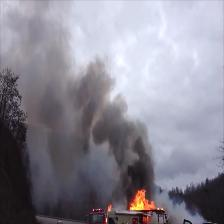fire: (131, 192, 158, 211)
smoke: (29, 12, 65, 108), (74, 80, 124, 133), (119, 140, 156, 187), (50, 122, 75, 168)
